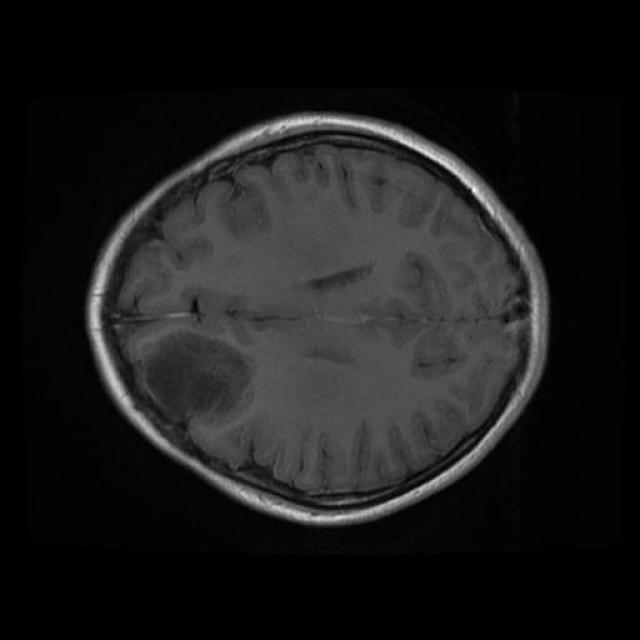Glioma: (136, 331, 248, 420)
